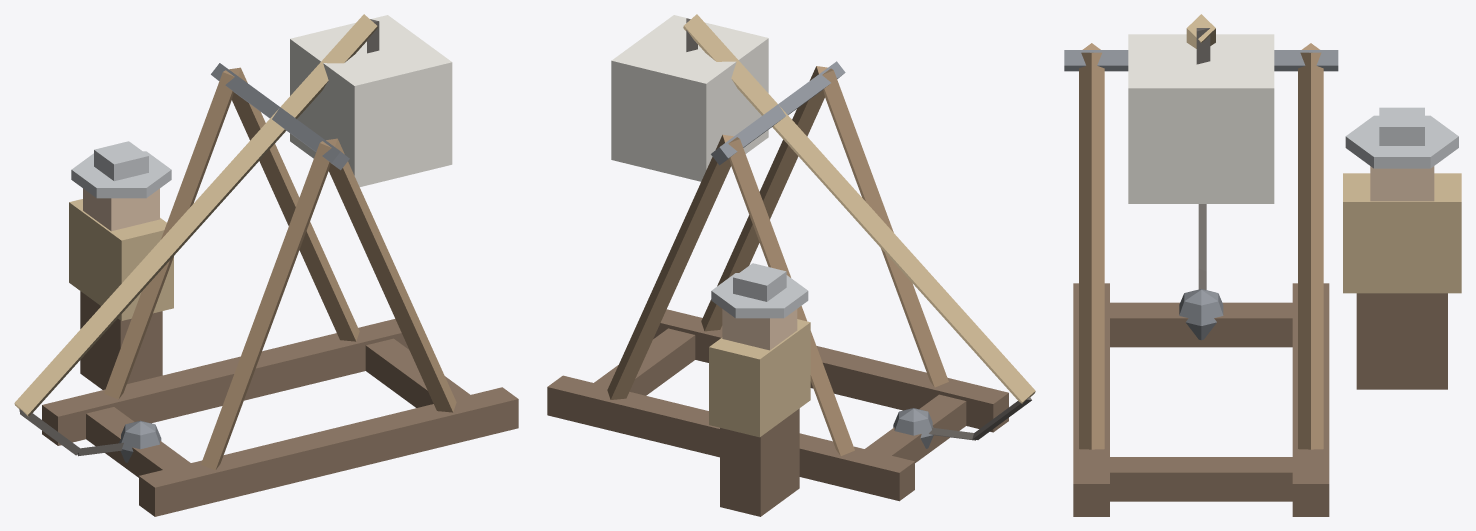
The model's file is formation_back.glb.
The picture shows the model from 3 angles, left to right: view 1: azimuth 30°, elevation 25°; view 2: azimuth 150°, elevation 25°; view 3: azimuth 270°, elevation 25°; orthographic projection. The views are drawn at different scales.
Parts seen in each view (by area): view 1: medieval_formation_back; view 2: medieval_formation_back; view 3: medieval_formation_back.
Part boxes in pixels (x1,y1,x2,y2): medieval_formation_back: (14,14,518,516); medieval_formation_back: (547,14,1035,516); medieval_formation_back: (1064,14,1461,516).
Size of the model in its own units: 0.9995 by 0.8466 by 0.6791.
